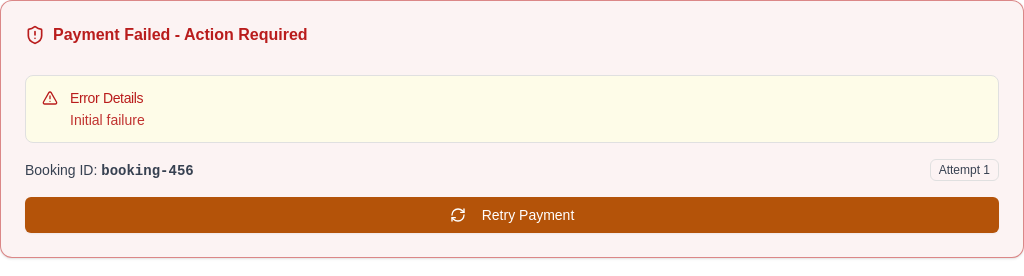
PaymentRetry Component › handles retry success happy path
Click the button "Retry Payment" at (512, 215), box [25, 197, 999, 233]
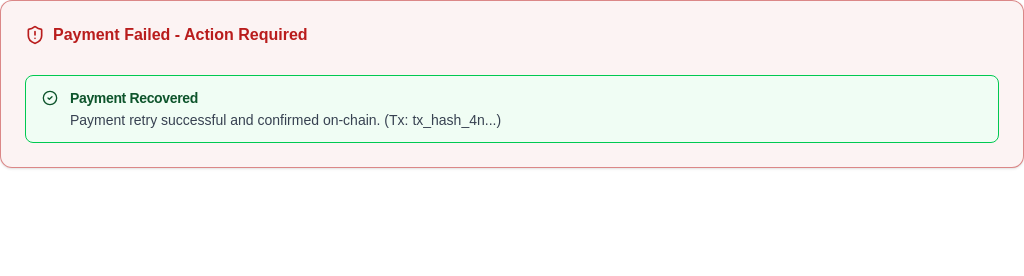
Expected: the text "Payment Recovered" is shown, [70, 90, 198, 106]
